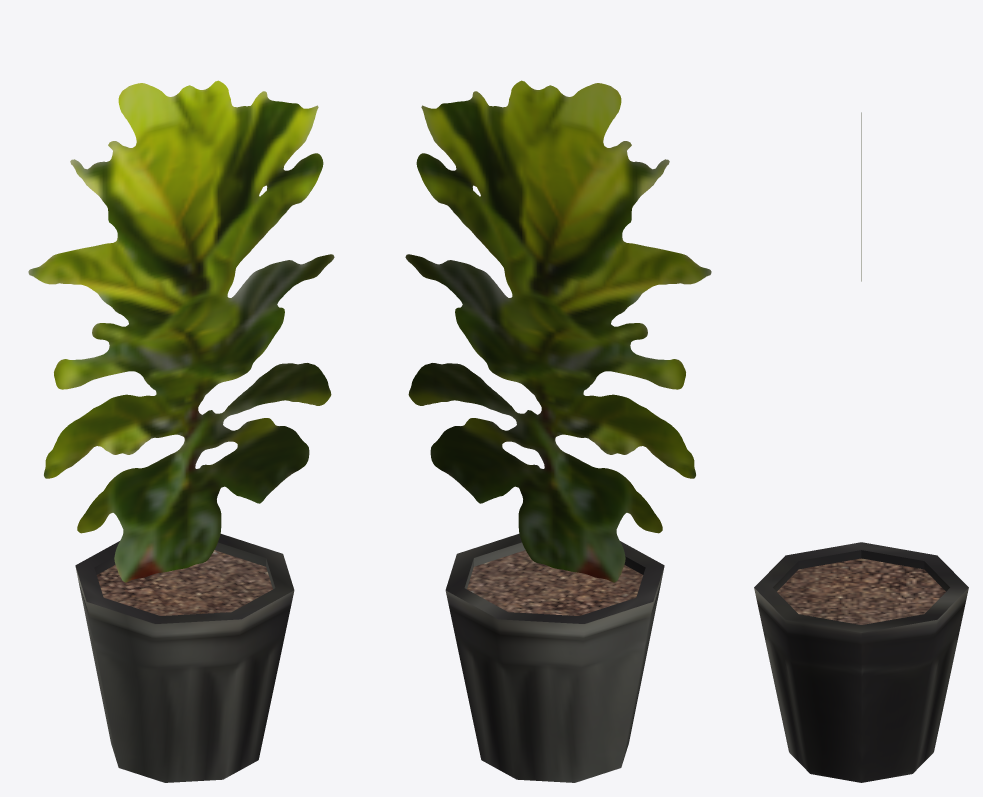
File: stuio_plant_2.FBX
3 views of the same model, side by side, from view 1: azimuth 30°, elevation 25°; view 2: azimuth 150°, elevation 25°; view 3: azimuth 270°, elevation 25° (orthographic). The views are drawn at different scales.
Parts seen in each view (by area): view 1: office_plant_2, office_pot; view 2: office_plant_2, office_pot; view 3: office_pot.
Boxes of the visible parts, x1,y1,x2,y2 form: office_plant_2: (28, 80, 334, 582); office_pot: (75, 534, 294, 782); office_plant_2: (405, 80, 711, 582); office_pot: (445, 534, 664, 782); office_pot: (754, 542, 968, 782).
Bounding box in the file's own units: 56.48 × 110 × 32.48.
